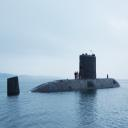submarine: (8, 53, 124, 97)
